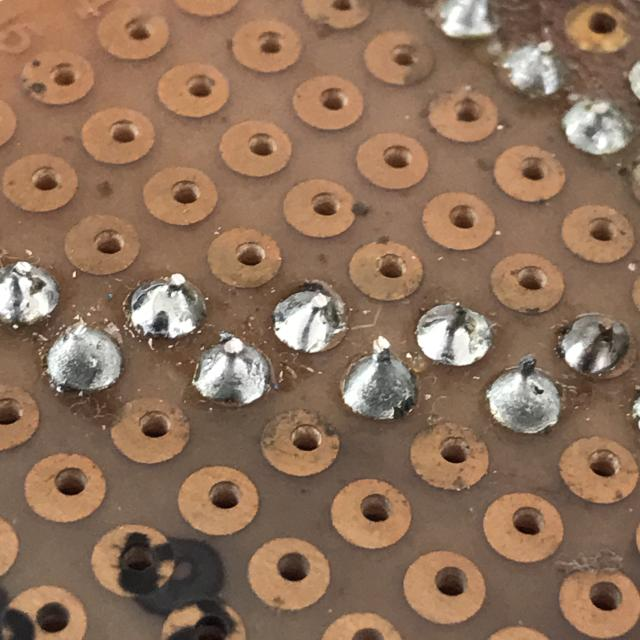good: (336, 344, 425, 426), (409, 294, 500, 372), (118, 273, 215, 344)
pad_less: (551, 306, 640, 388), (268, 282, 357, 360)
